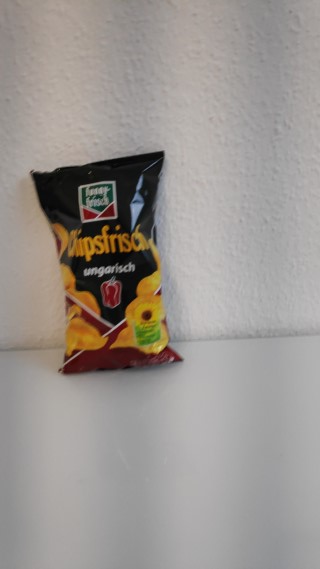chipsfrisch: (29, 149, 186, 377)
